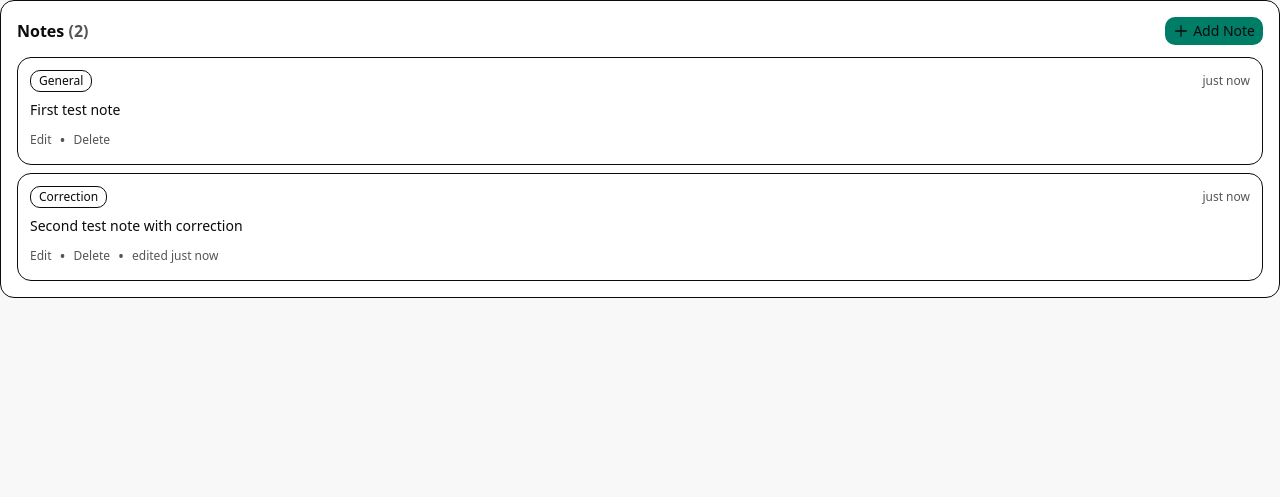
Test: UserNotesPanel › Add Note Form › enables save button when content is provided
Click the button "Add Note".
click(1214, 31)  # box [1165, 17, 1263, 45]
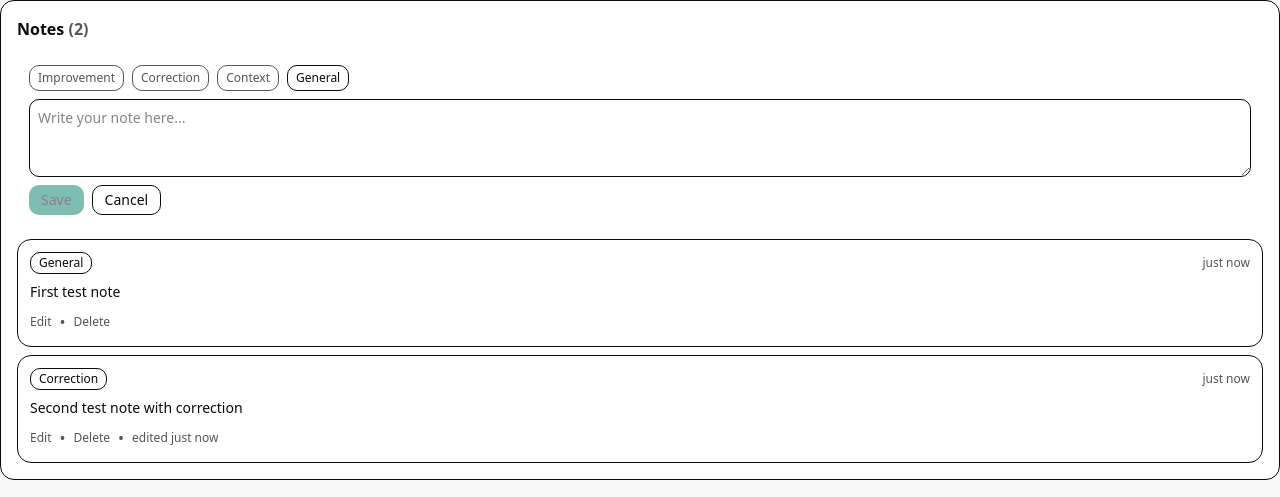
Type "New content" into the text box with placeholder "Write your note here...".
click(640, 138); type("New content")  # box [29, 99, 1251, 177]
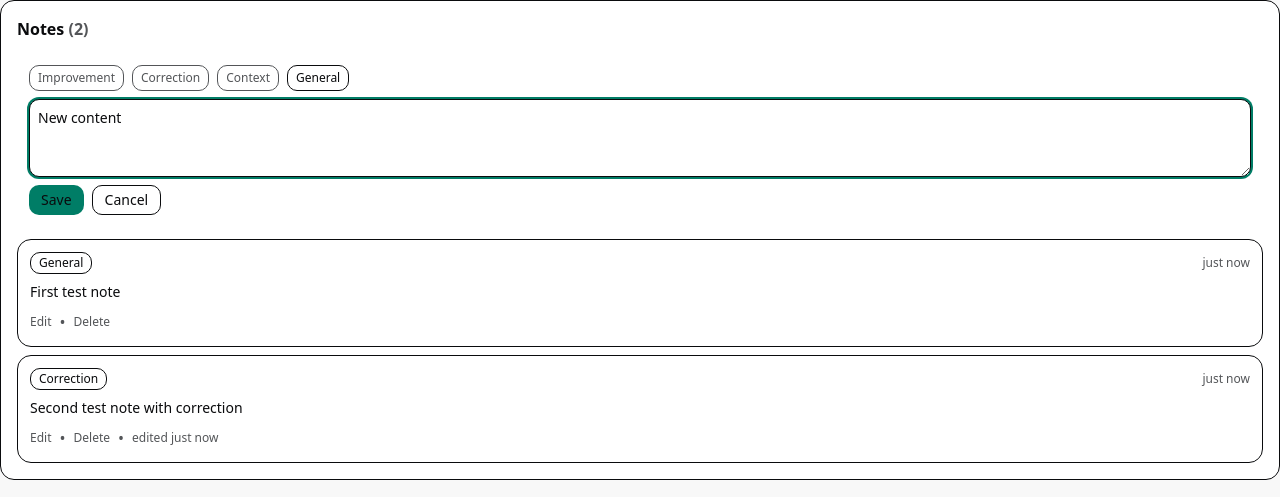
Check: the button "Save" is enabled, box [29, 185, 84, 215]
